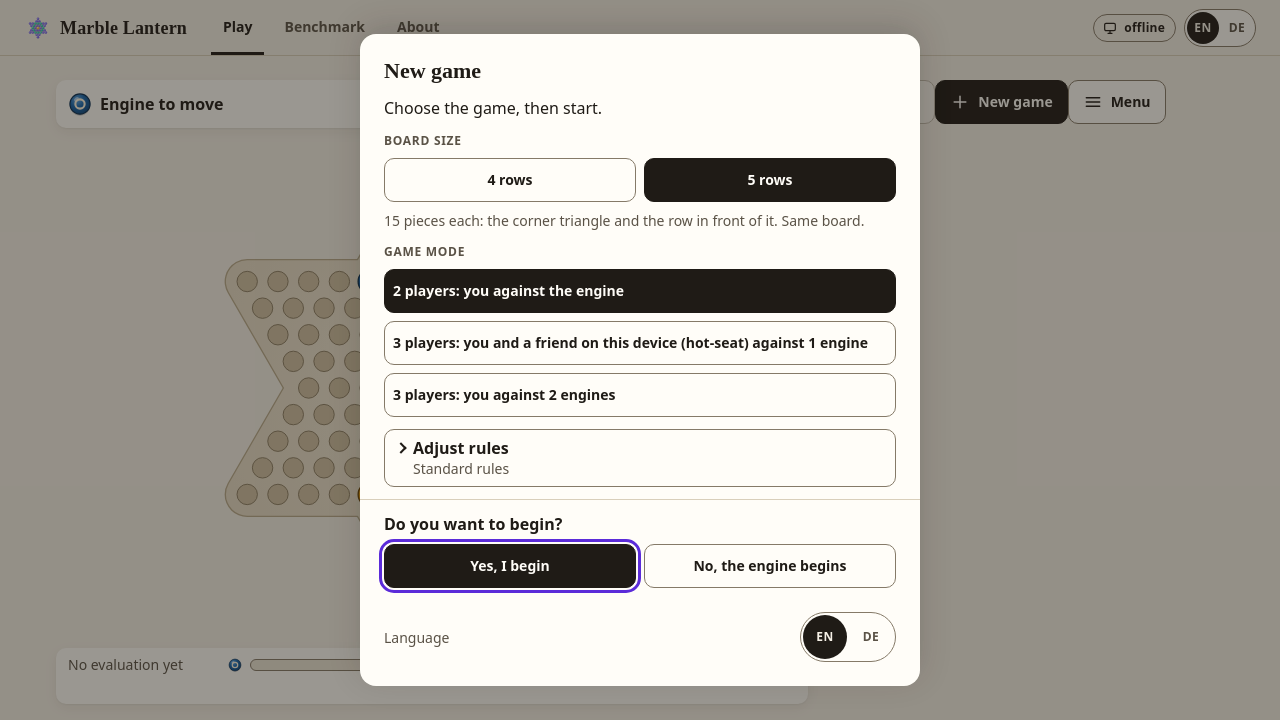
Test: play screen on a small screen › the engine sheet opens above the menu; Escape closes the sheet first, then the menu, and focus returns step by step
Step 1. Click the button "Yes, I begin" → (510, 566), box [384, 544, 636, 588]
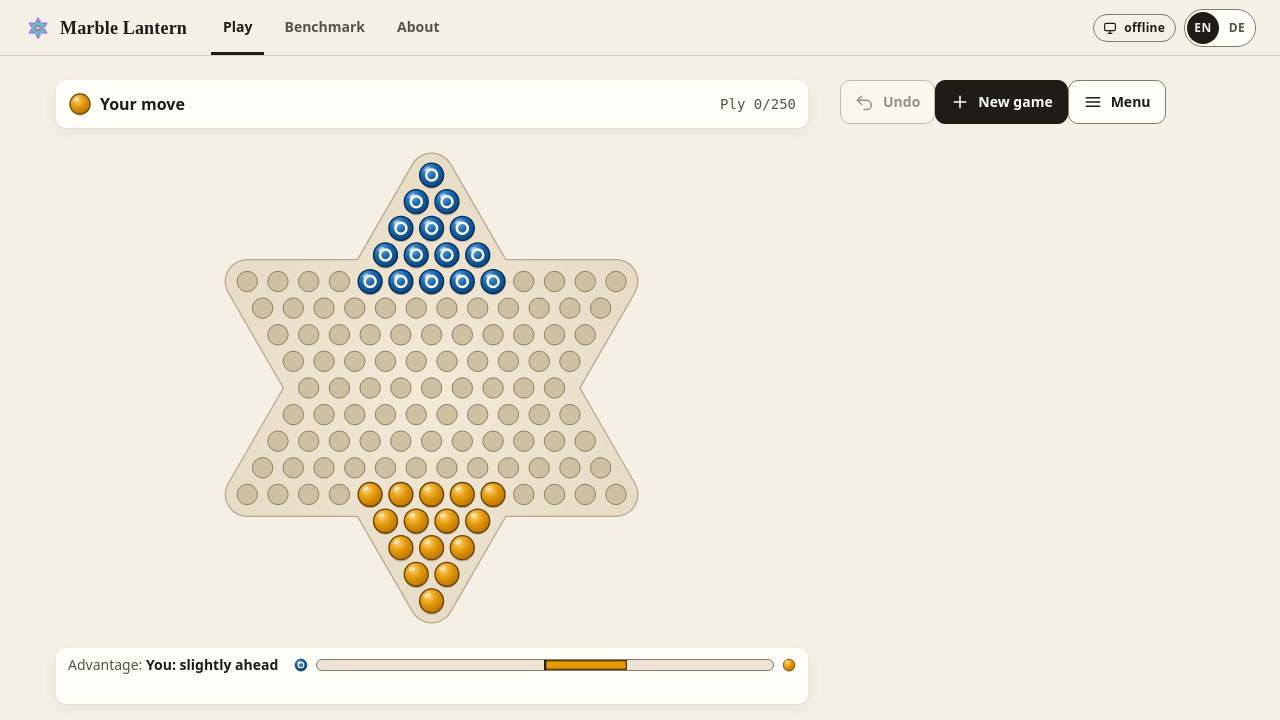
Step 2. Click the button "Menu" → (1117, 102), box [1068, 80, 1166, 124]
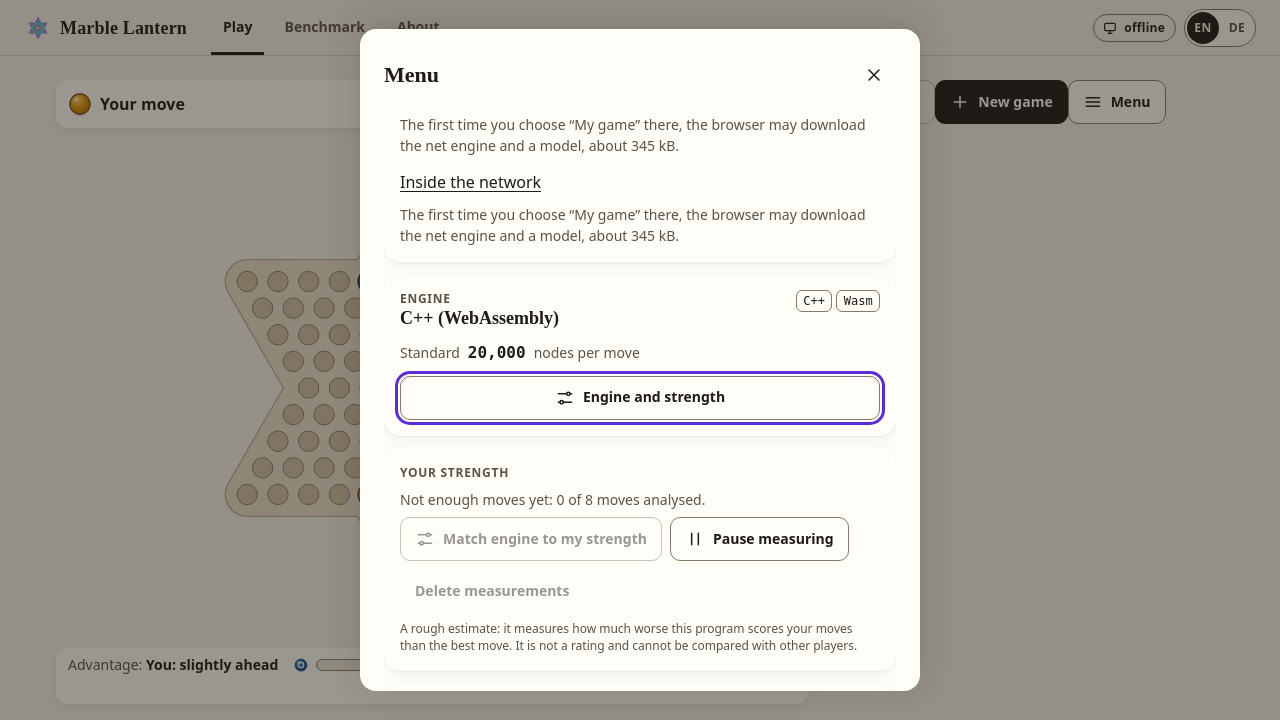
Step 3. Click the button "Engine and strength" → (640, 398), box [400, 376, 880, 420]
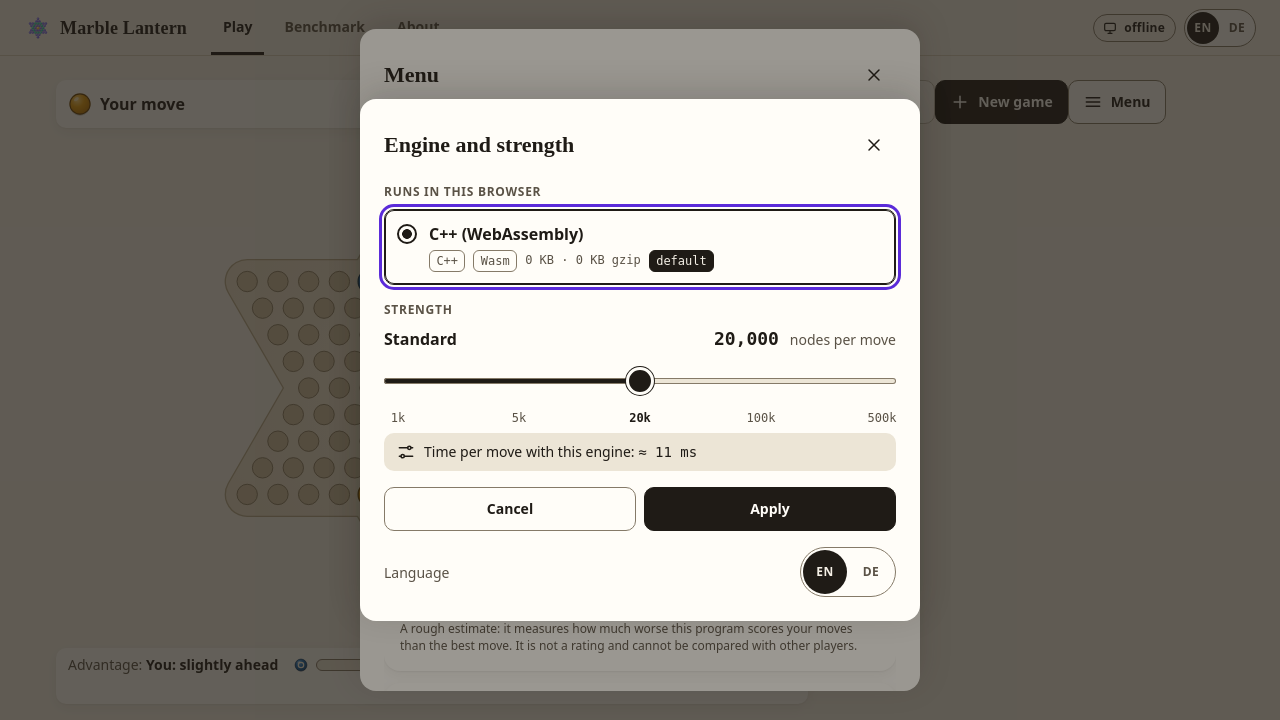
Step 4. Press Escape in the dialog, box [360, 99, 920, 621]
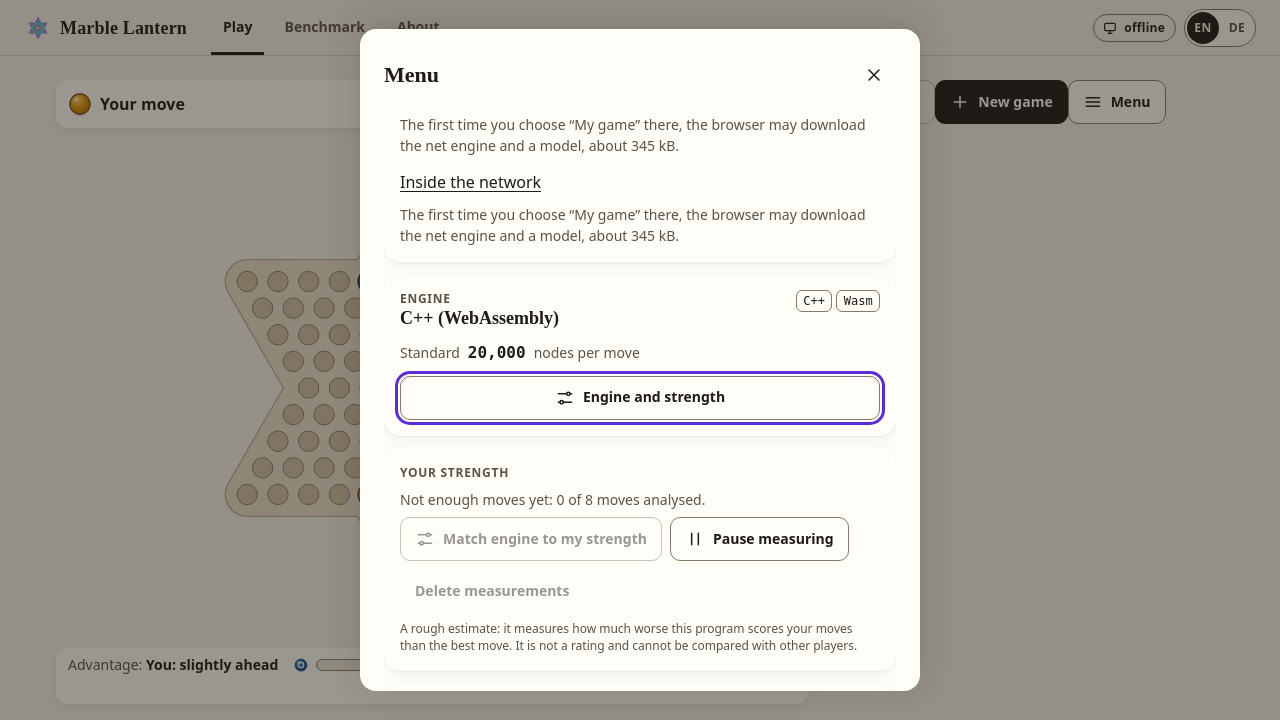
Step 5. Press Escape in the button "Engine and strength", box [400, 376, 880, 420]
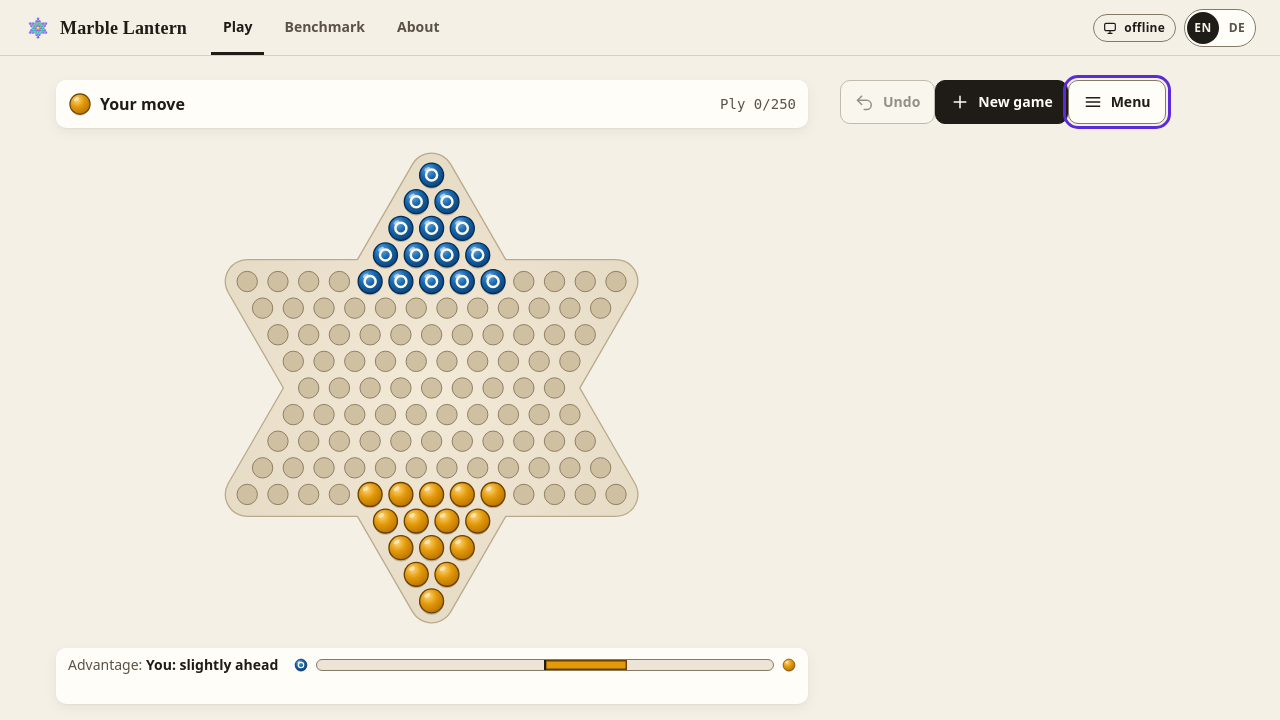
Expected: the button "Engine and strength" is gone
